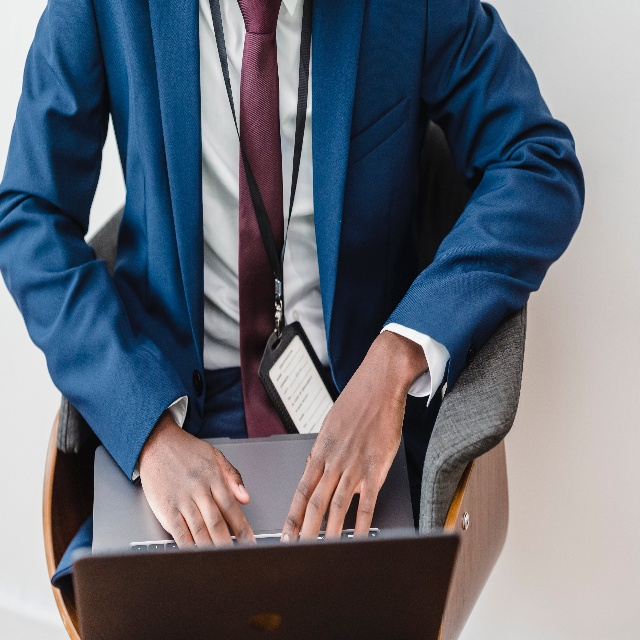Sin_guantes: (280, 348, 404, 544), (138, 420, 258, 548)
